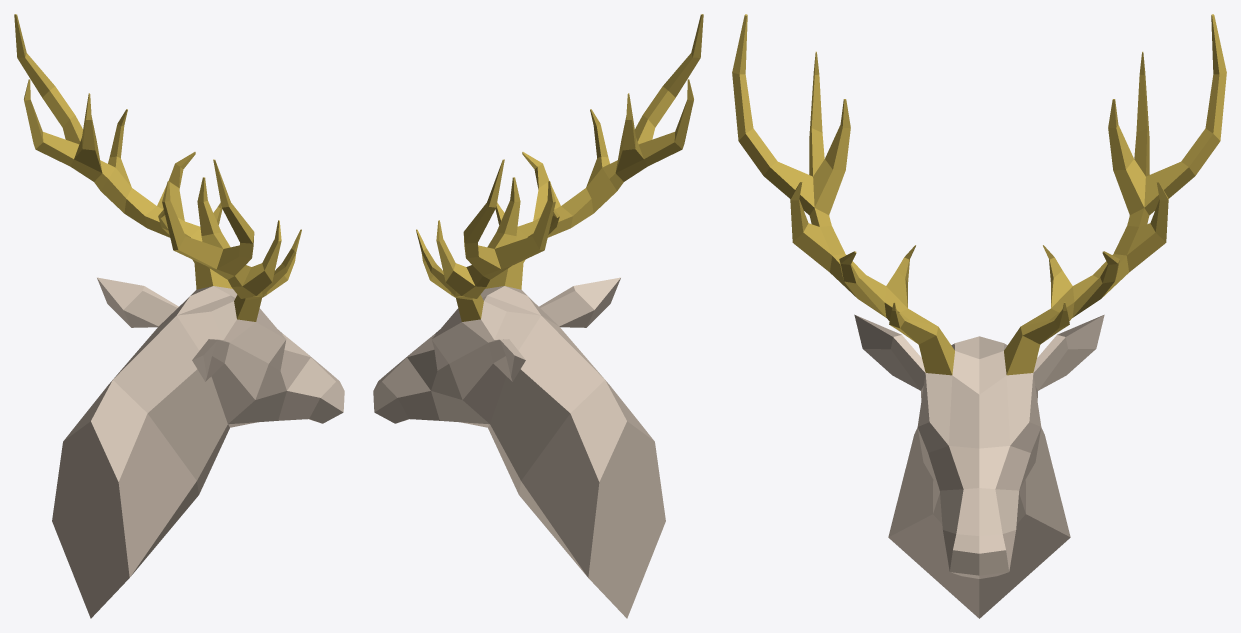
Rendered from fbx_hunting_trophy.fbx.
3 renders of one model, left to right at view 1: azimuth 30°, elevation 25°; view 2: azimuth 150°, elevation 25°; view 3: azimuth 270°, elevation 25°, orthographic. The views are drawn at different scales.
Visible parts, largest first — view 1: fbx_hunting_trophy; view 2: fbx_hunting_trophy; view 3: fbx_hunting_trophy.
Part boxes in pixels (left/top/right/bottom): fbx_hunting_trophy: left=14, top=14, right=344, bottom=618; fbx_hunting_trophy: left=373, top=14, right=703, bottom=618; fbx_hunting_trophy: left=732, top=14, right=1226, bottom=618.
Size of the model in its own units: 1.12 by 2.26 by 1.64.
Materials: 1 (1 with a texture image).
